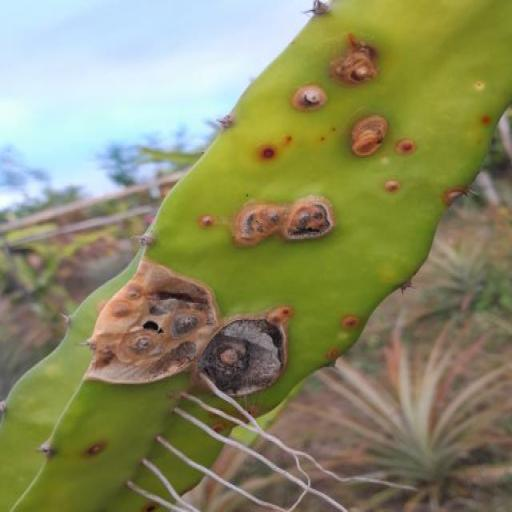stemcanker: (322, 110, 341, 159), (293, 4, 315, 36), (274, 324, 289, 366), (218, 63, 232, 104), (201, 96, 215, 132), (322, 189, 336, 215)
